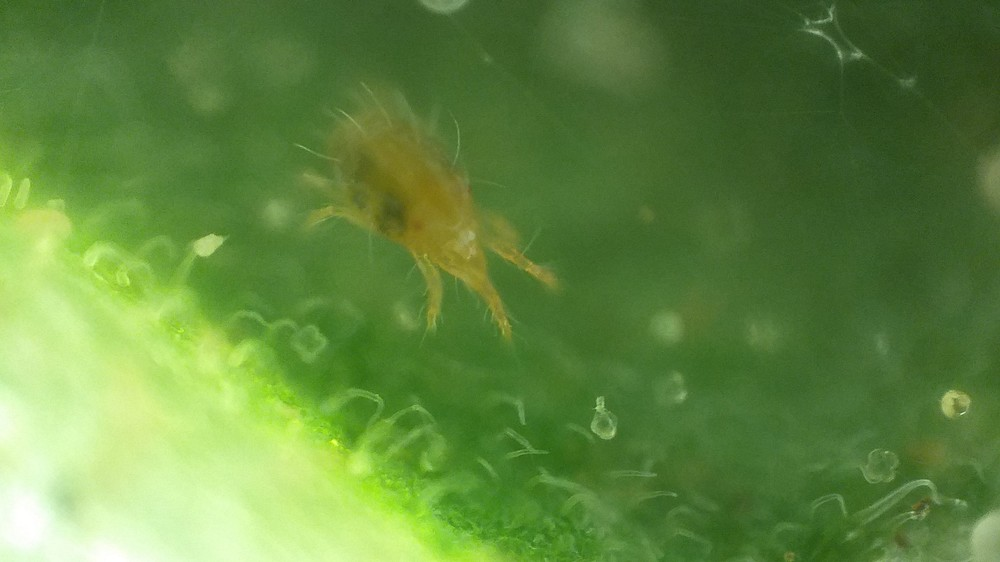Aracnido Rojo: (281, 68, 597, 362)
